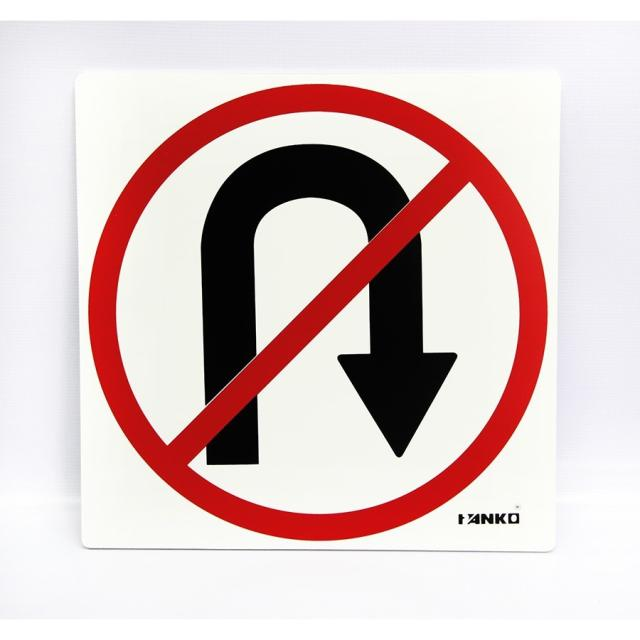Demi-Tour-Interdit: (142, 130, 485, 509)
